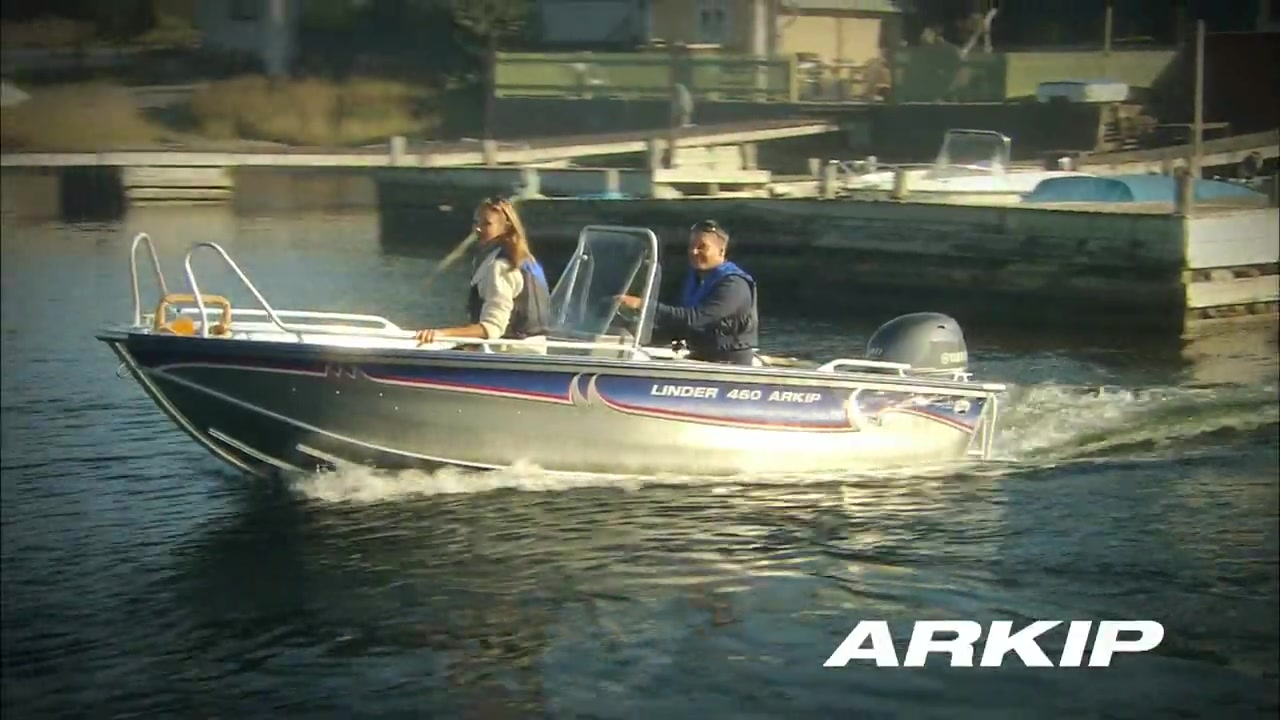boat: (93, 217, 1006, 495)
